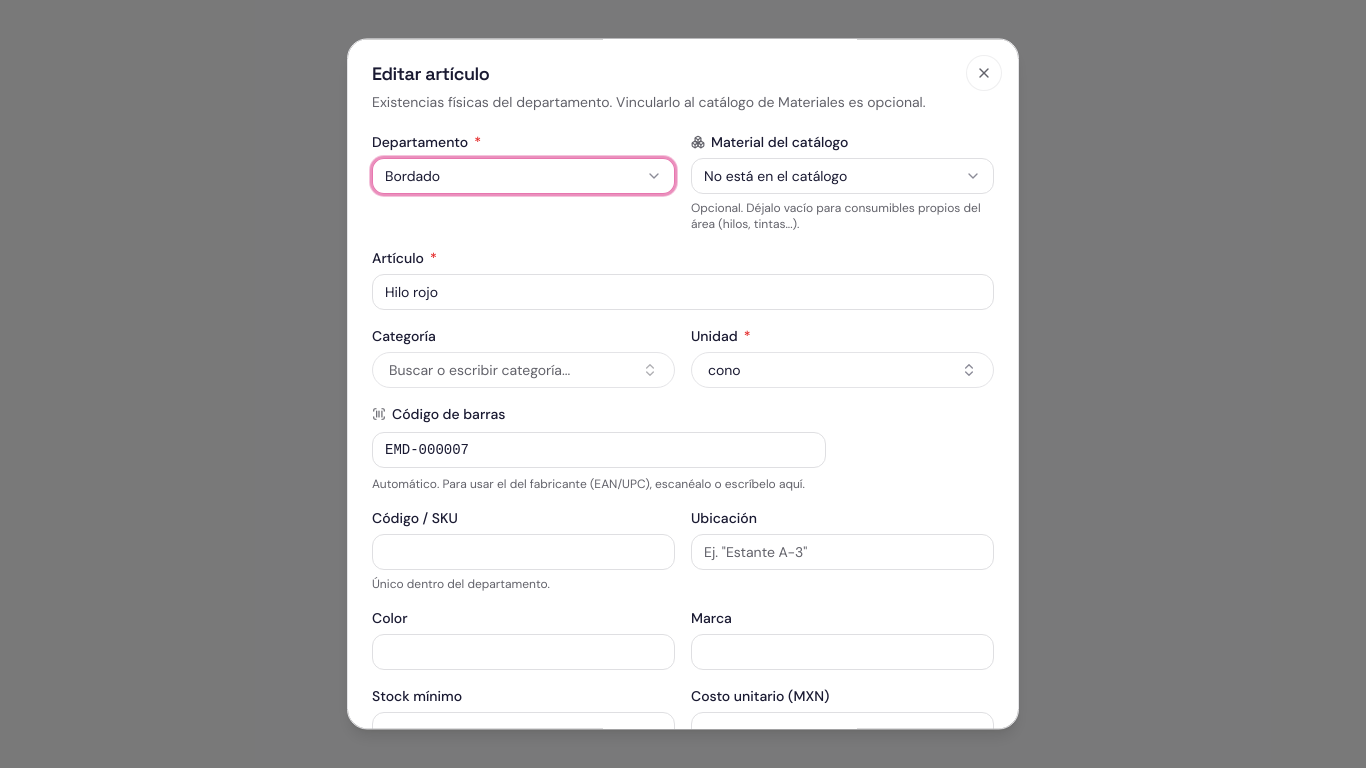
InventoryItemDialog · código de barras › liga el código del fabricante y muestra el 409 en el campo
Clear the field labelled "Código de barras" at (599,450), box [372,432,826,468]
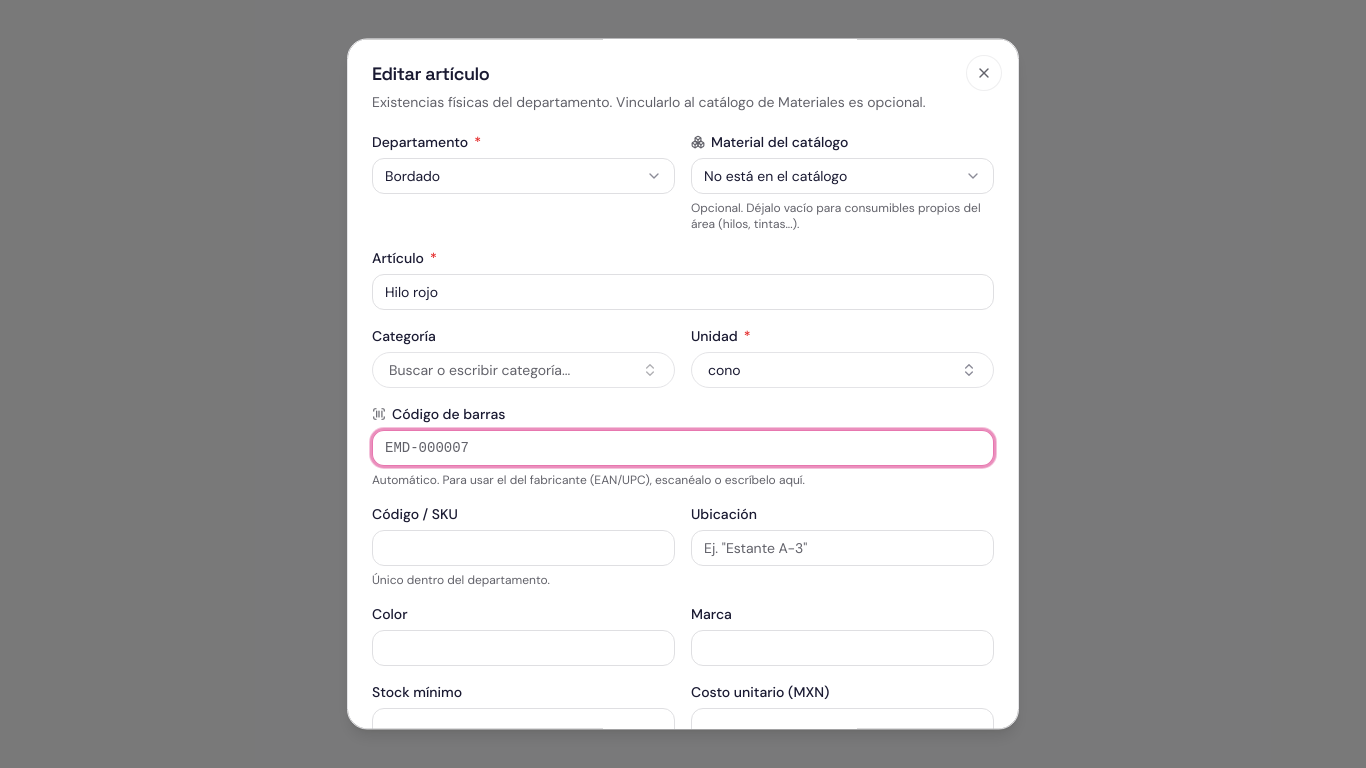
Type " 7501234567890 " into the field labelled "Código de barras" at (683,448), box [372,430,994,466]
(page scrolled)
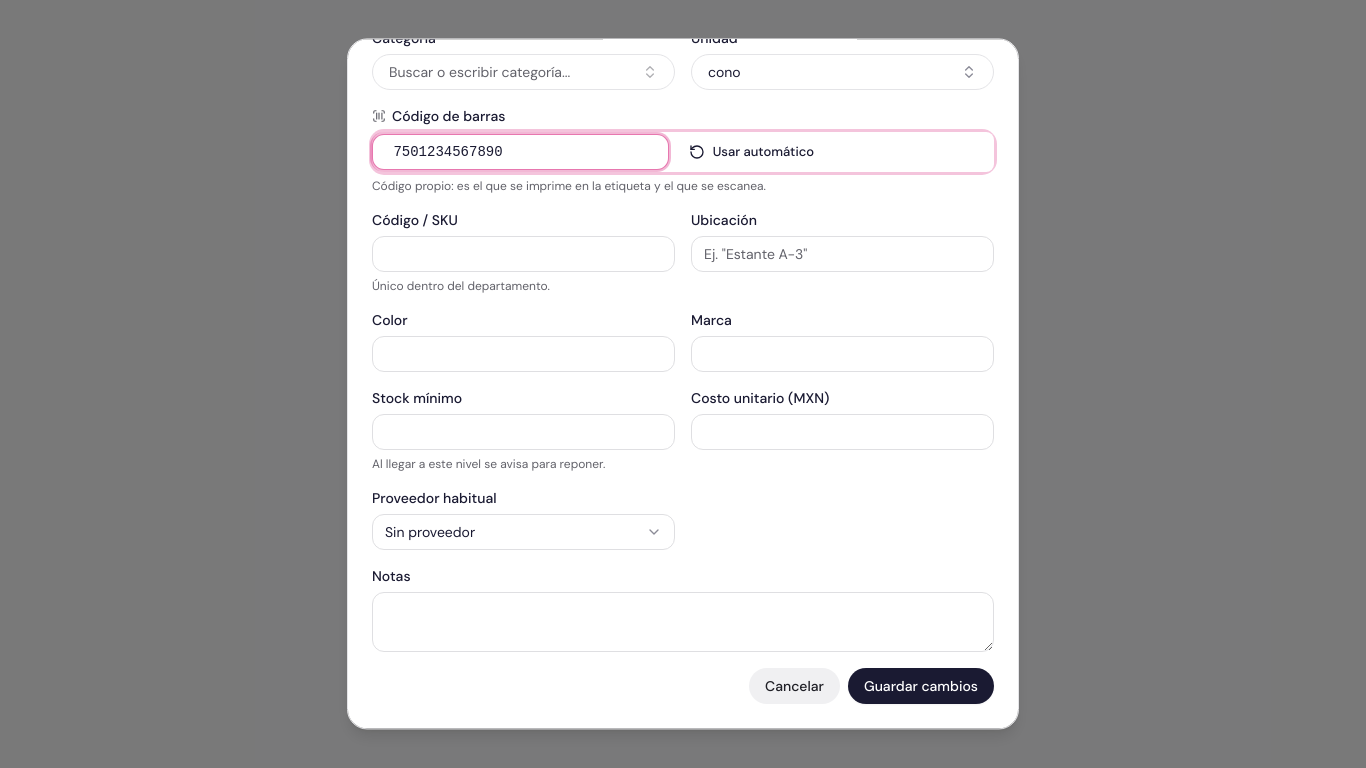
Click the button "Guardar cambios" at (921,686), box [848,668,994,704]
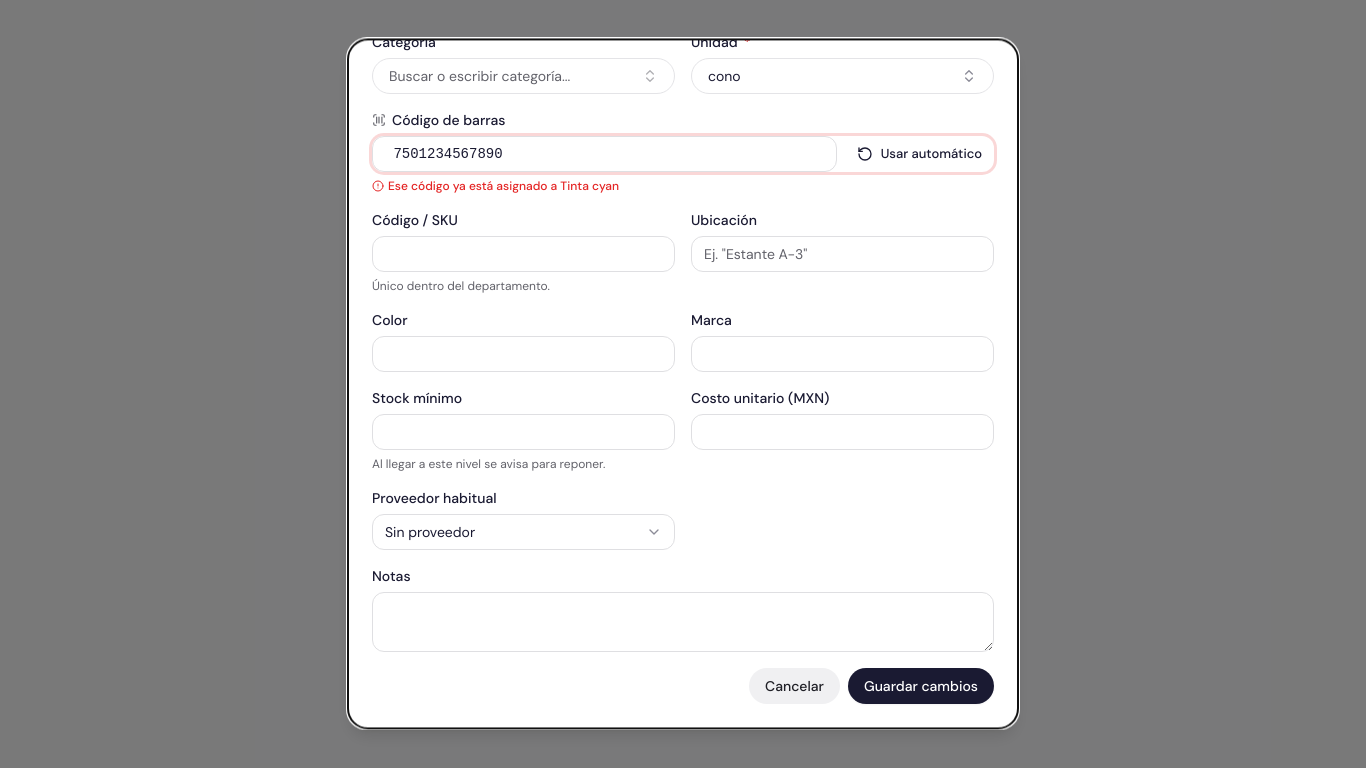
Now the text "Ese código ya está asignado a Tinta cyan" is shown, box [372,178,619,194]
